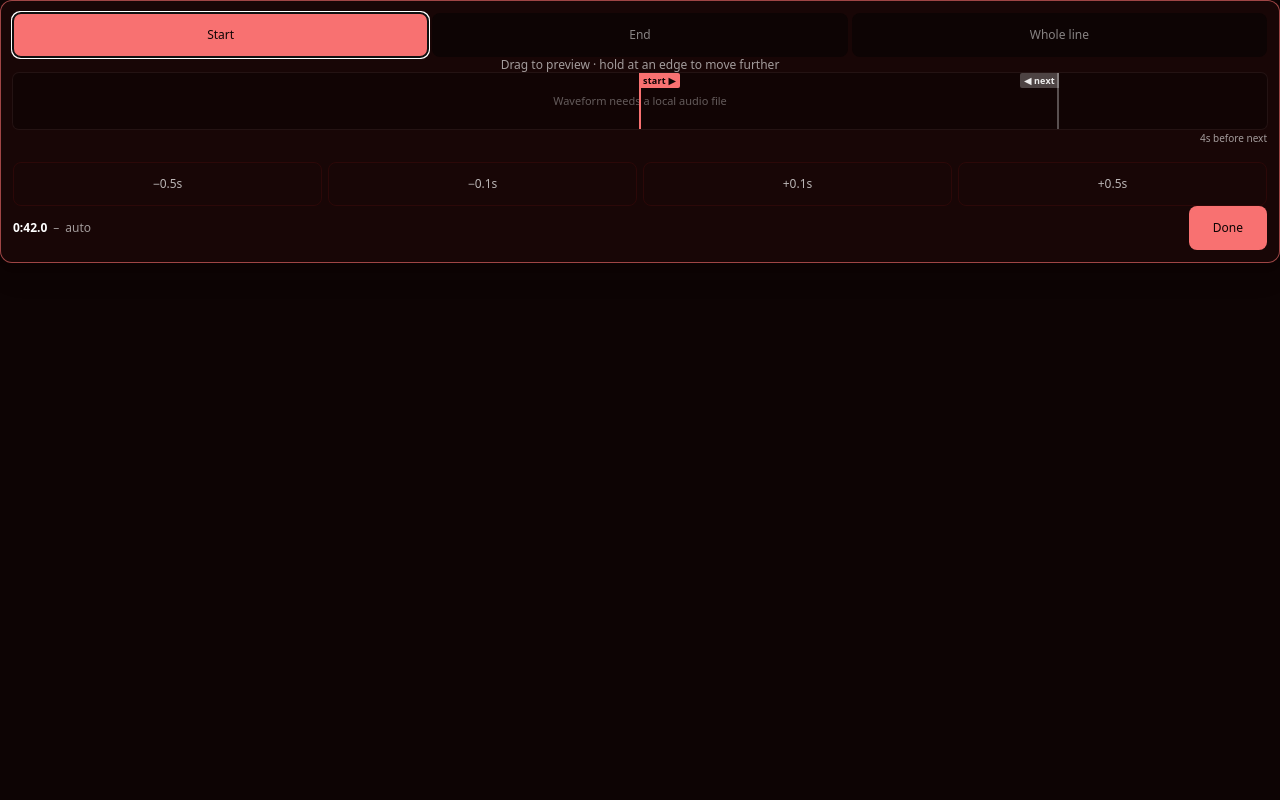
Test: TimestampPopover › dragging the slider updates the displayed time without committing
// Within the ±6s scrub window (36–48) around the current value.
Set the slider named "Scrub start timestamp" to "45" at (640, 101), box [13,73,1267,129]
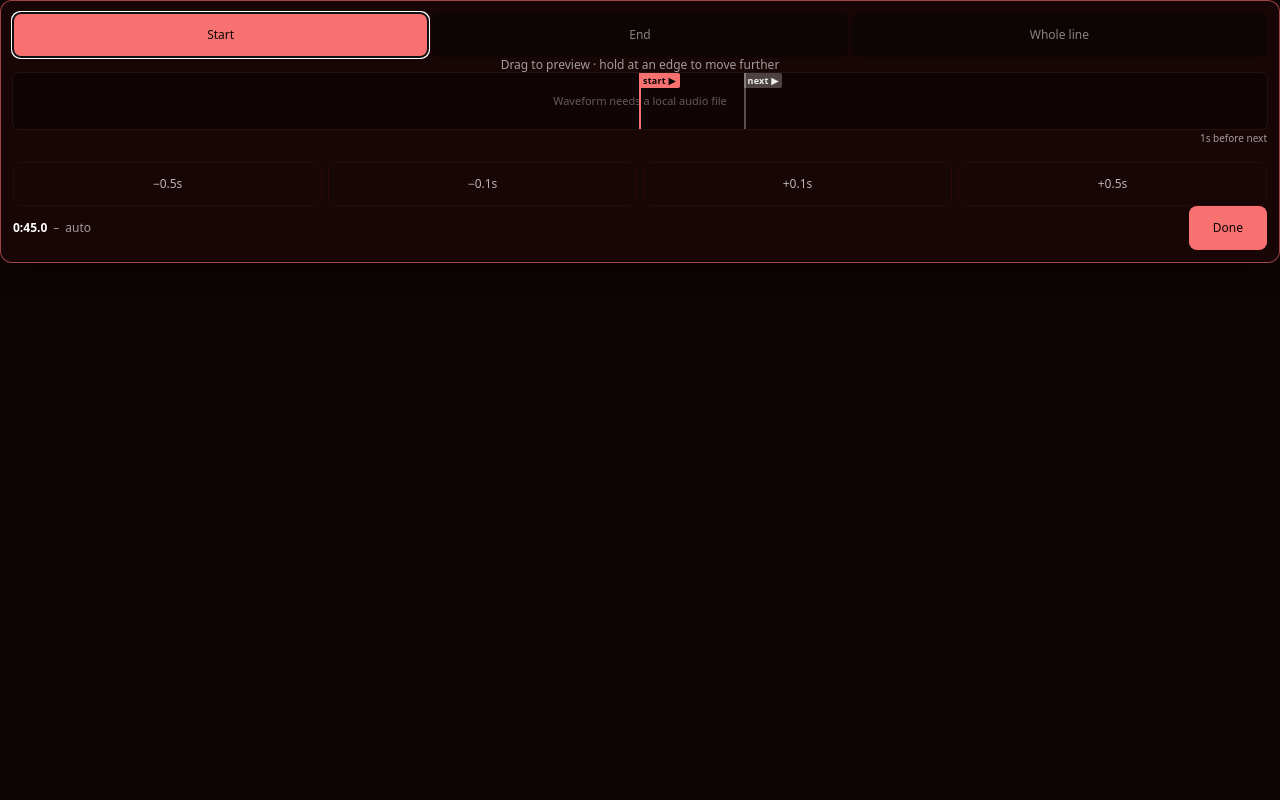
Now the text "0:45.0" is shown, box [13,220,47,236]
